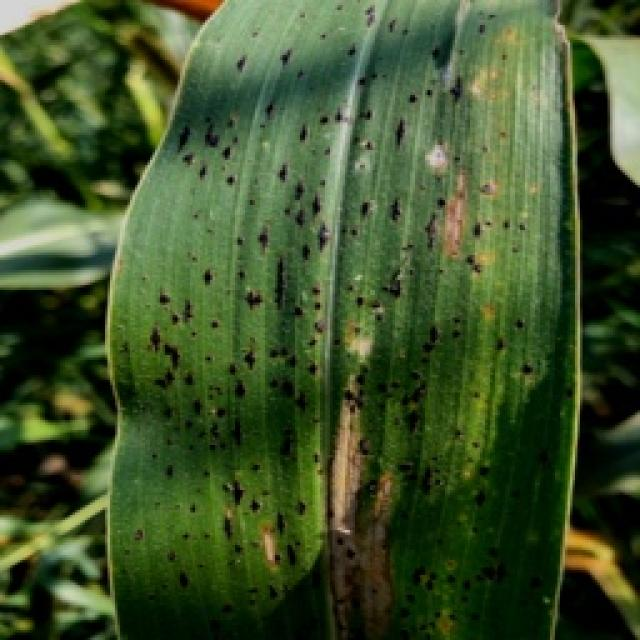Tar_Spot: (100, 0, 582, 638)
